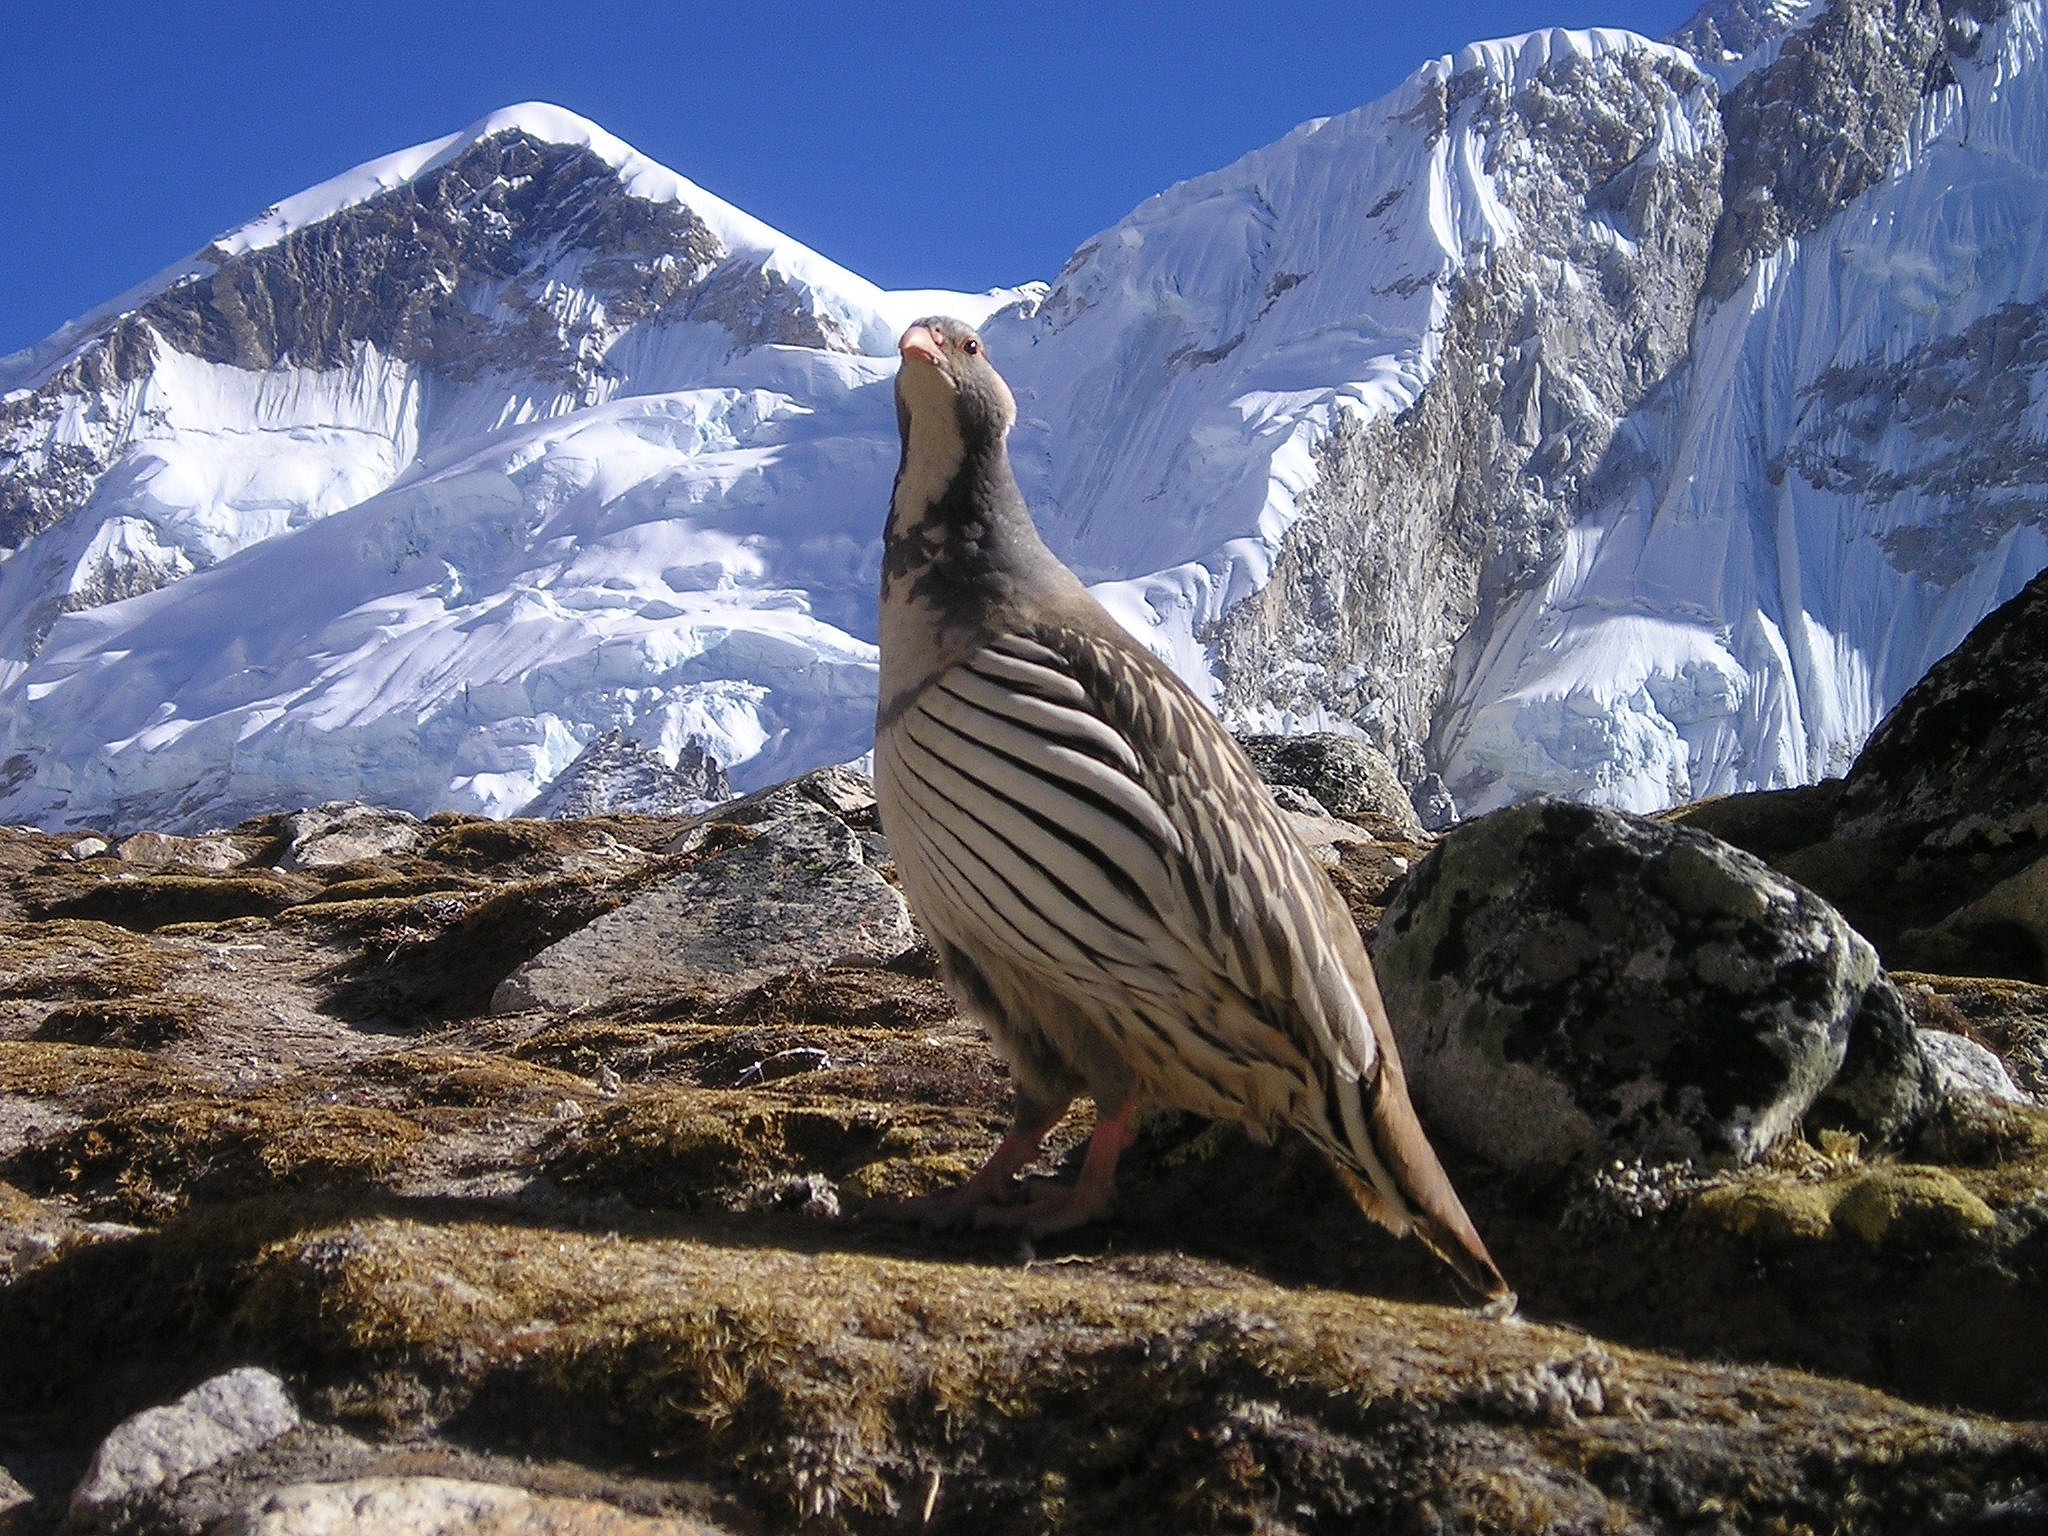bird: (835, 258, 1543, 1400)
